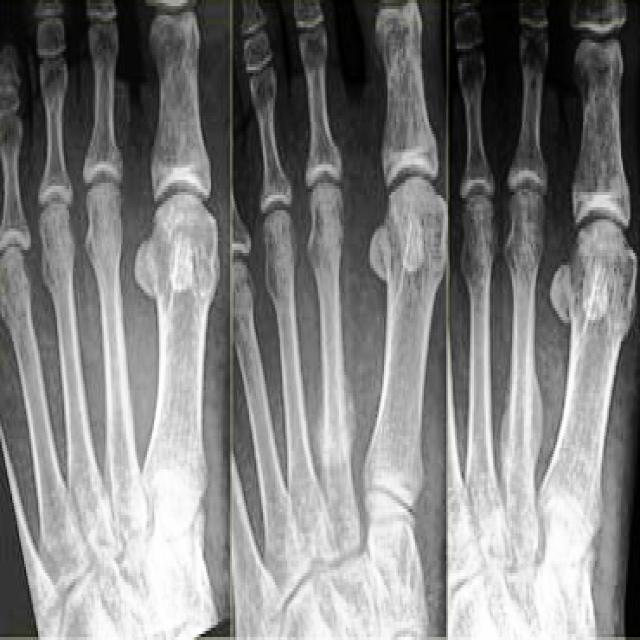HairLine Fracture: (500, 370, 543, 473), (304, 376, 357, 458)
